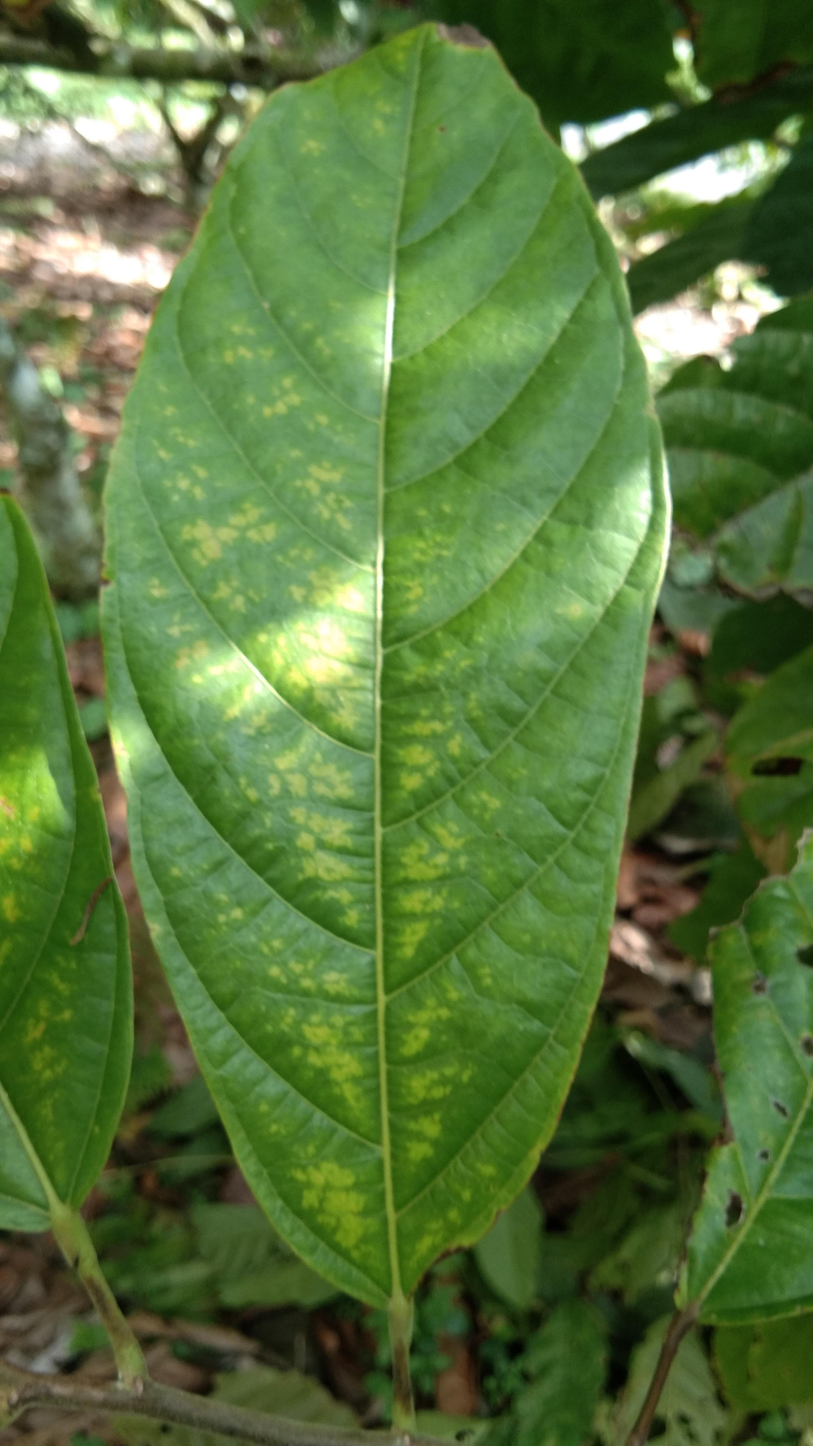deficiencia_potasio: (78, 5, 678, 1362)
